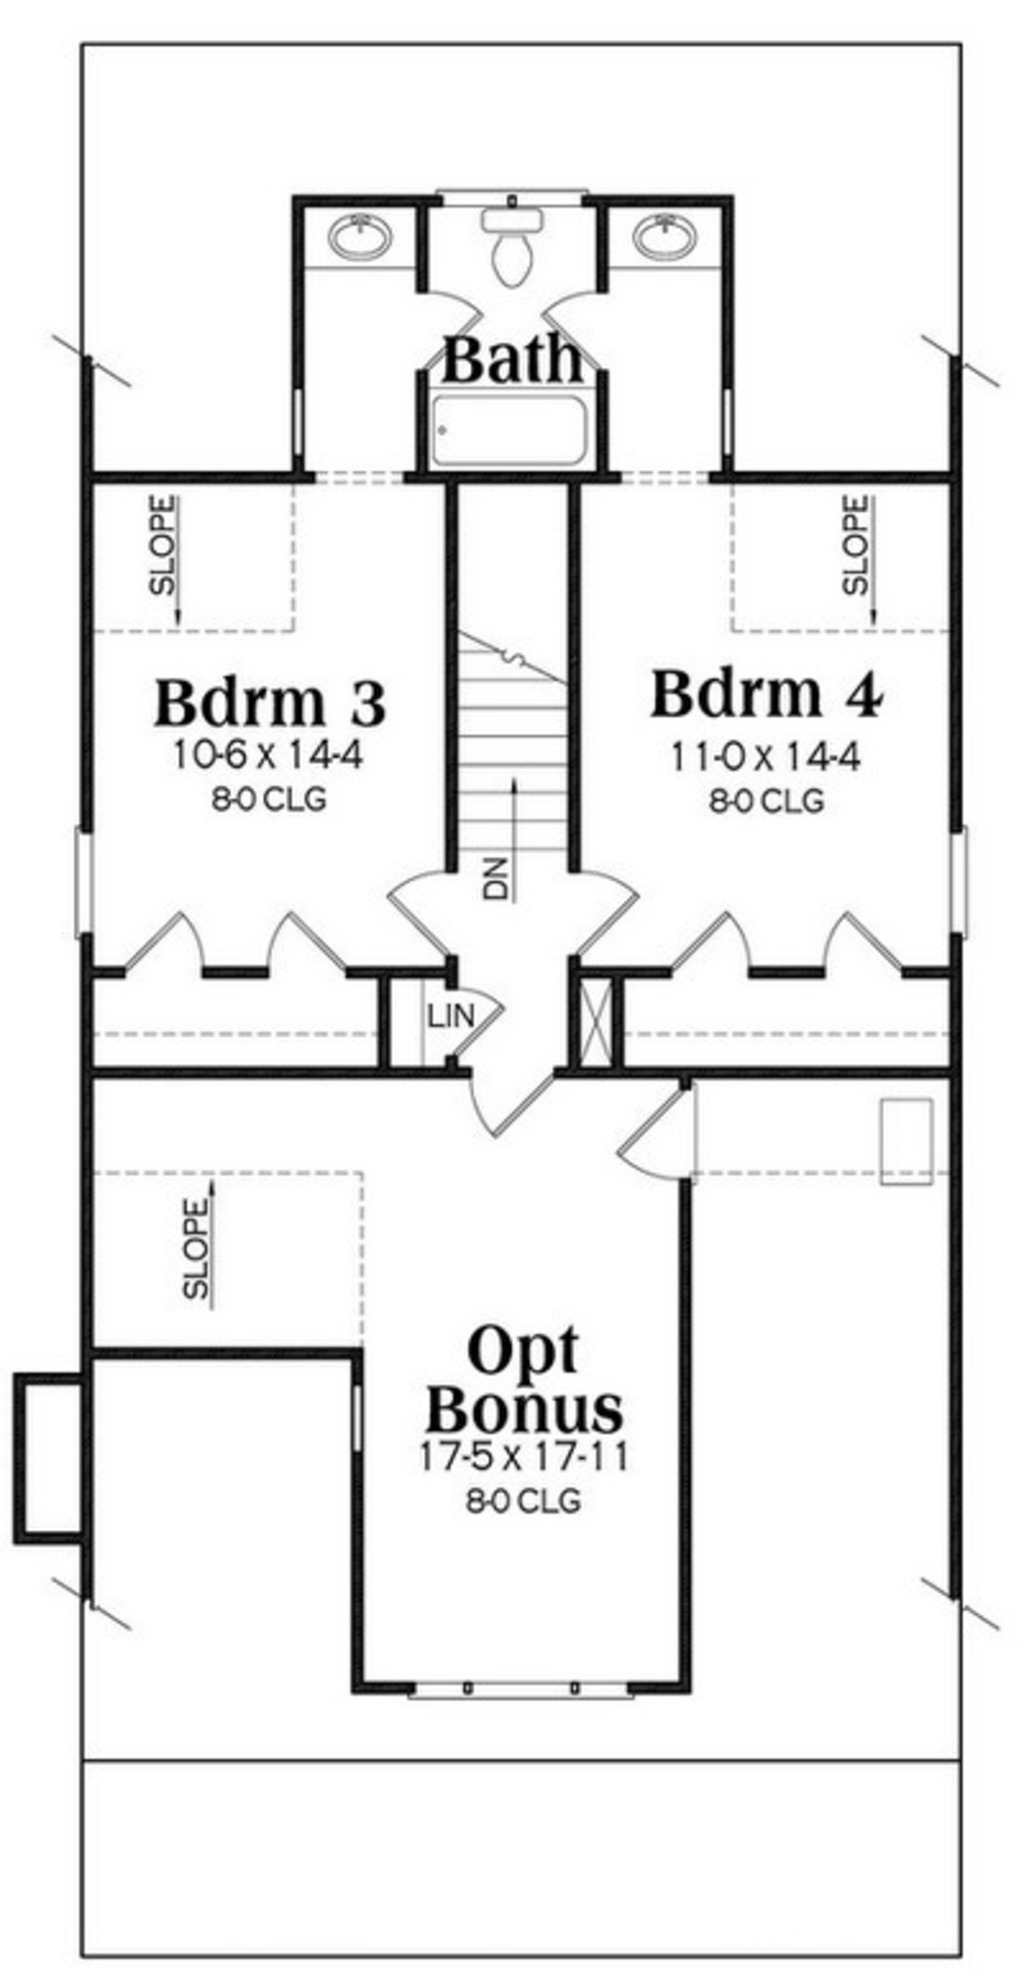door: (455, 1064, 573, 1148), (389, 854, 474, 970), (242, 910, 353, 992), (624, 1082, 714, 1181), (652, 914, 761, 995), (114, 885, 199, 990), (814, 907, 914, 990), (424, 973, 508, 1067), (573, 856, 643, 963), (411, 282, 483, 376), (555, 295, 620, 379)
large_sink: (477, 208, 549, 304)
small_sink: (592, 195, 714, 275), (308, 214, 402, 275)
stairs: (449, 484, 583, 876)
tub: (427, 389, 602, 473)
window: (421, 1670, 630, 1701), (71, 836, 104, 939), (342, 1376, 374, 1473), (952, 839, 980, 948)
